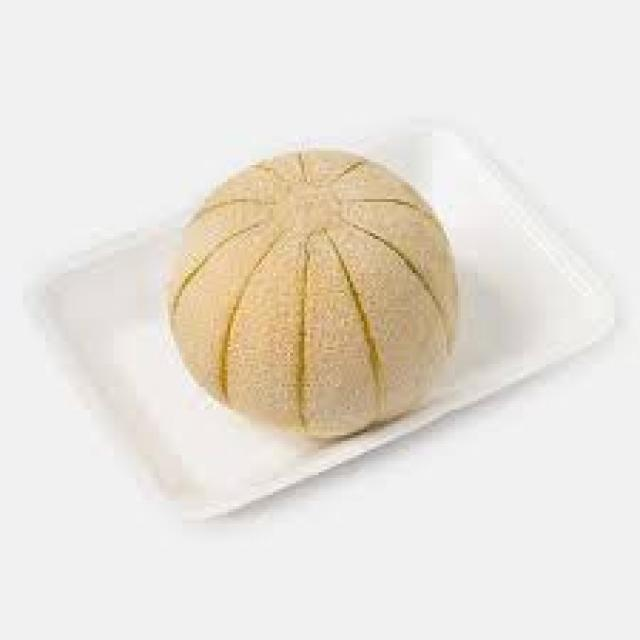melon: (162, 145, 461, 444)
